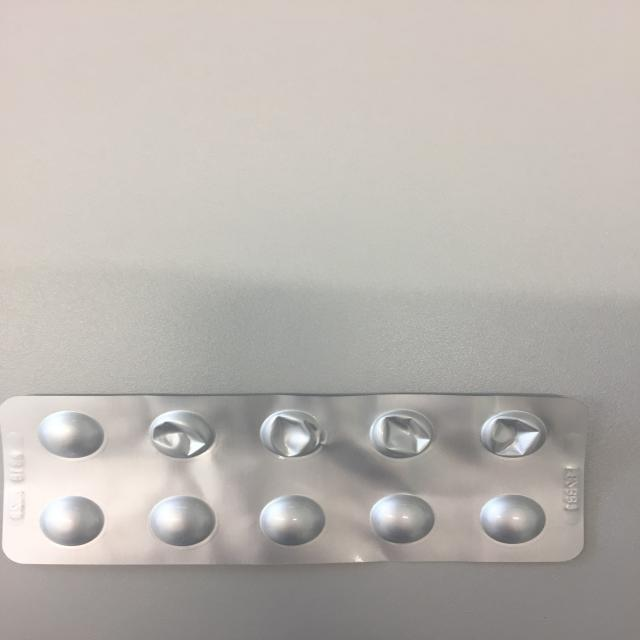Empty: (473, 407, 553, 462), (142, 408, 223, 461), (254, 406, 328, 462), (364, 406, 438, 460)
Pill: (254, 490, 335, 550), (33, 493, 115, 550), (144, 492, 222, 550), (30, 406, 110, 462), (473, 492, 553, 547), (362, 491, 443, 545)
